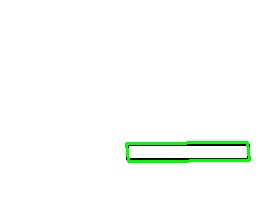line_segment: (126, 142, 250, 162)
